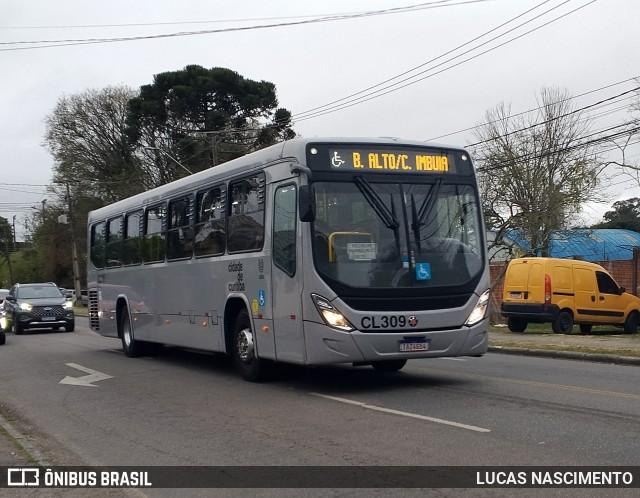B. ALTO C. IMBUIA: (348, 149, 453, 174)
